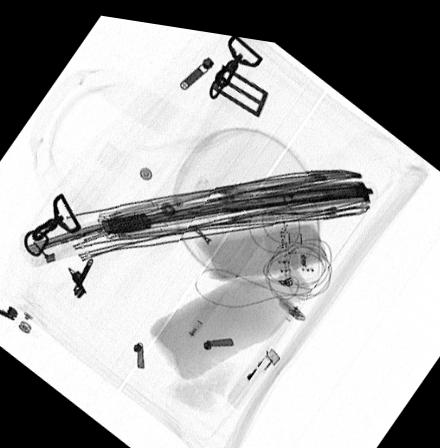Lighter: (226, 336, 281, 403)
